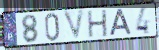0: (43, 11, 61, 43)
4: (134, 6, 153, 36)
8: (20, 13, 39, 44)
A: (109, 8, 134, 38)
H: (87, 8, 110, 39)
V: (62, 8, 87, 42)
